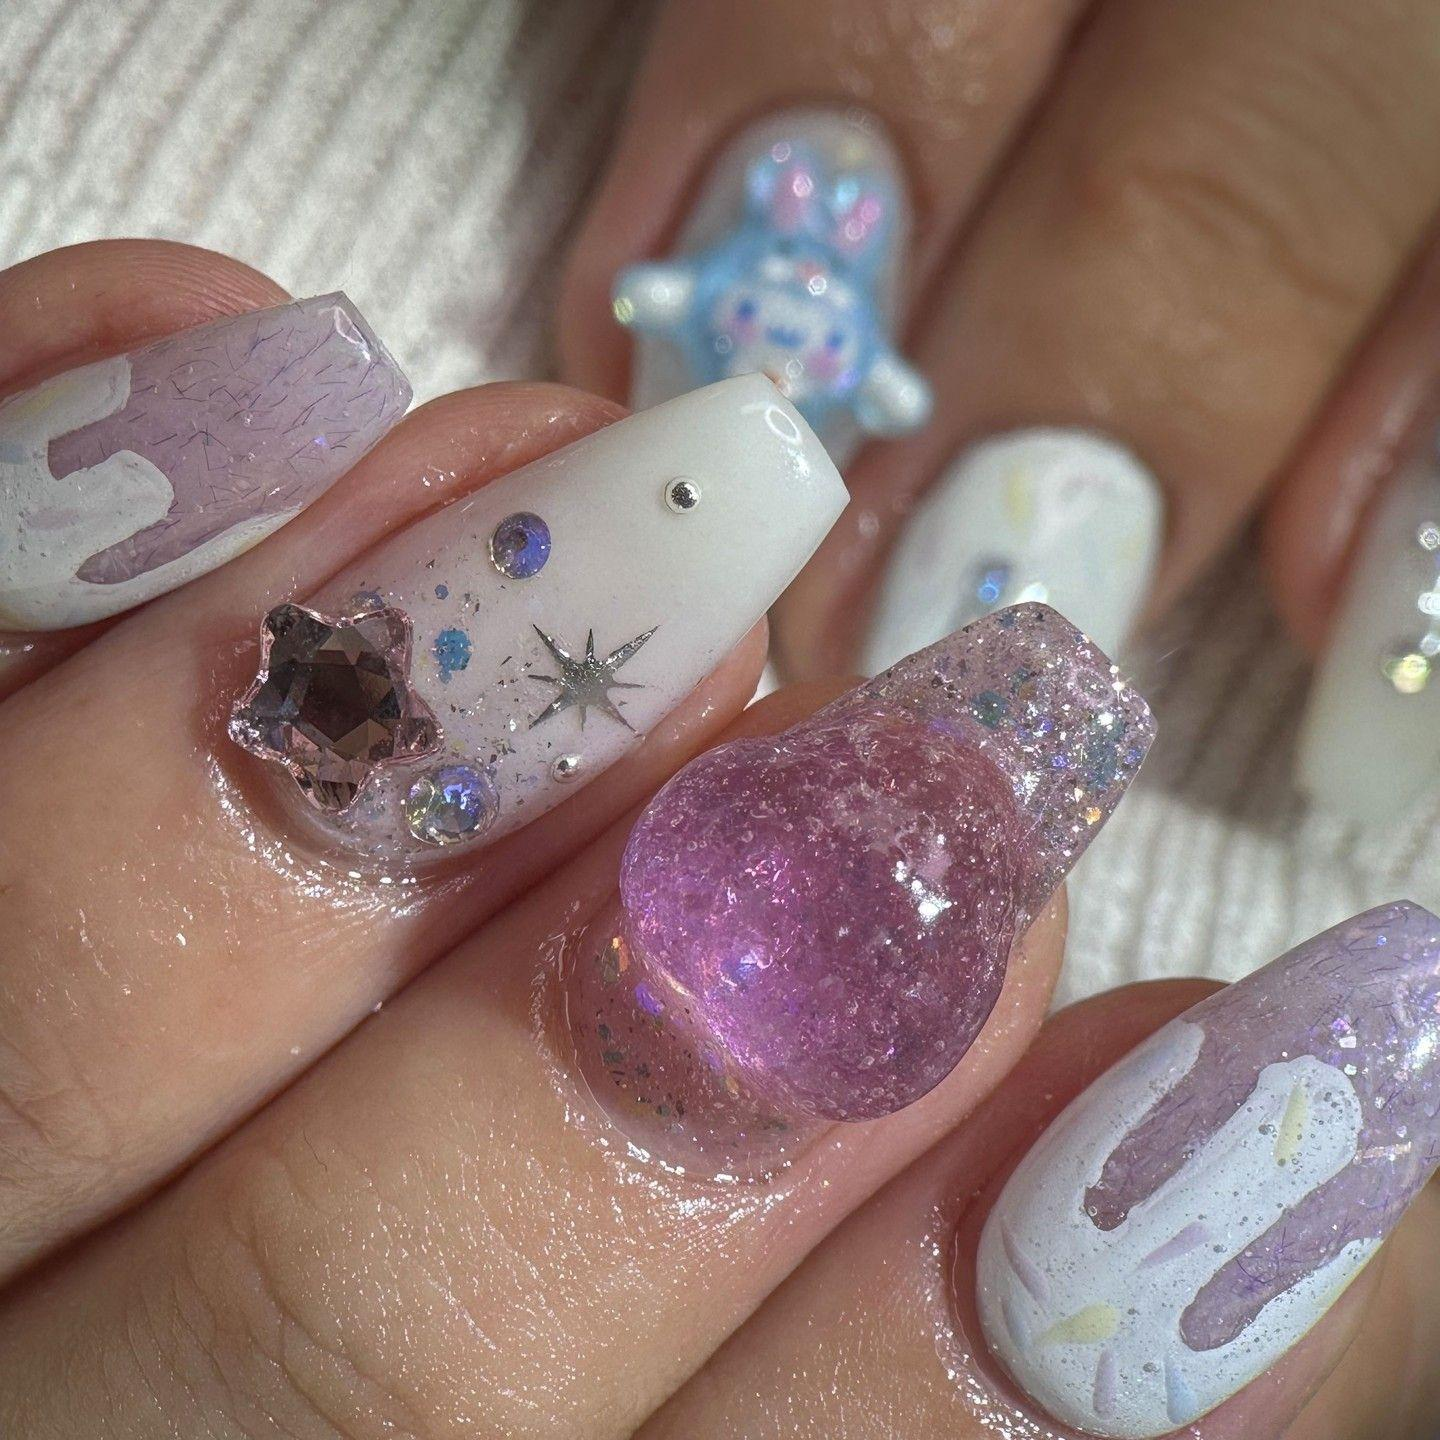nail: (225, 368, 852, 878), (615, 597, 1158, 1128), (970, 896, 1437, 1436), (0, 285, 413, 633)
